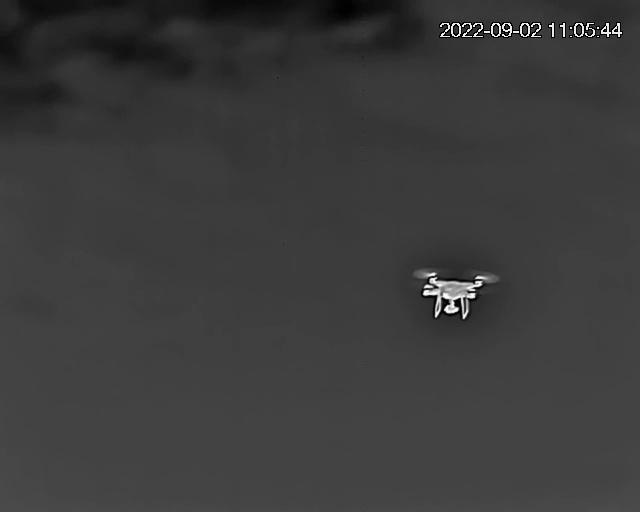DJI-Phantom: (411, 267, 500, 320)
